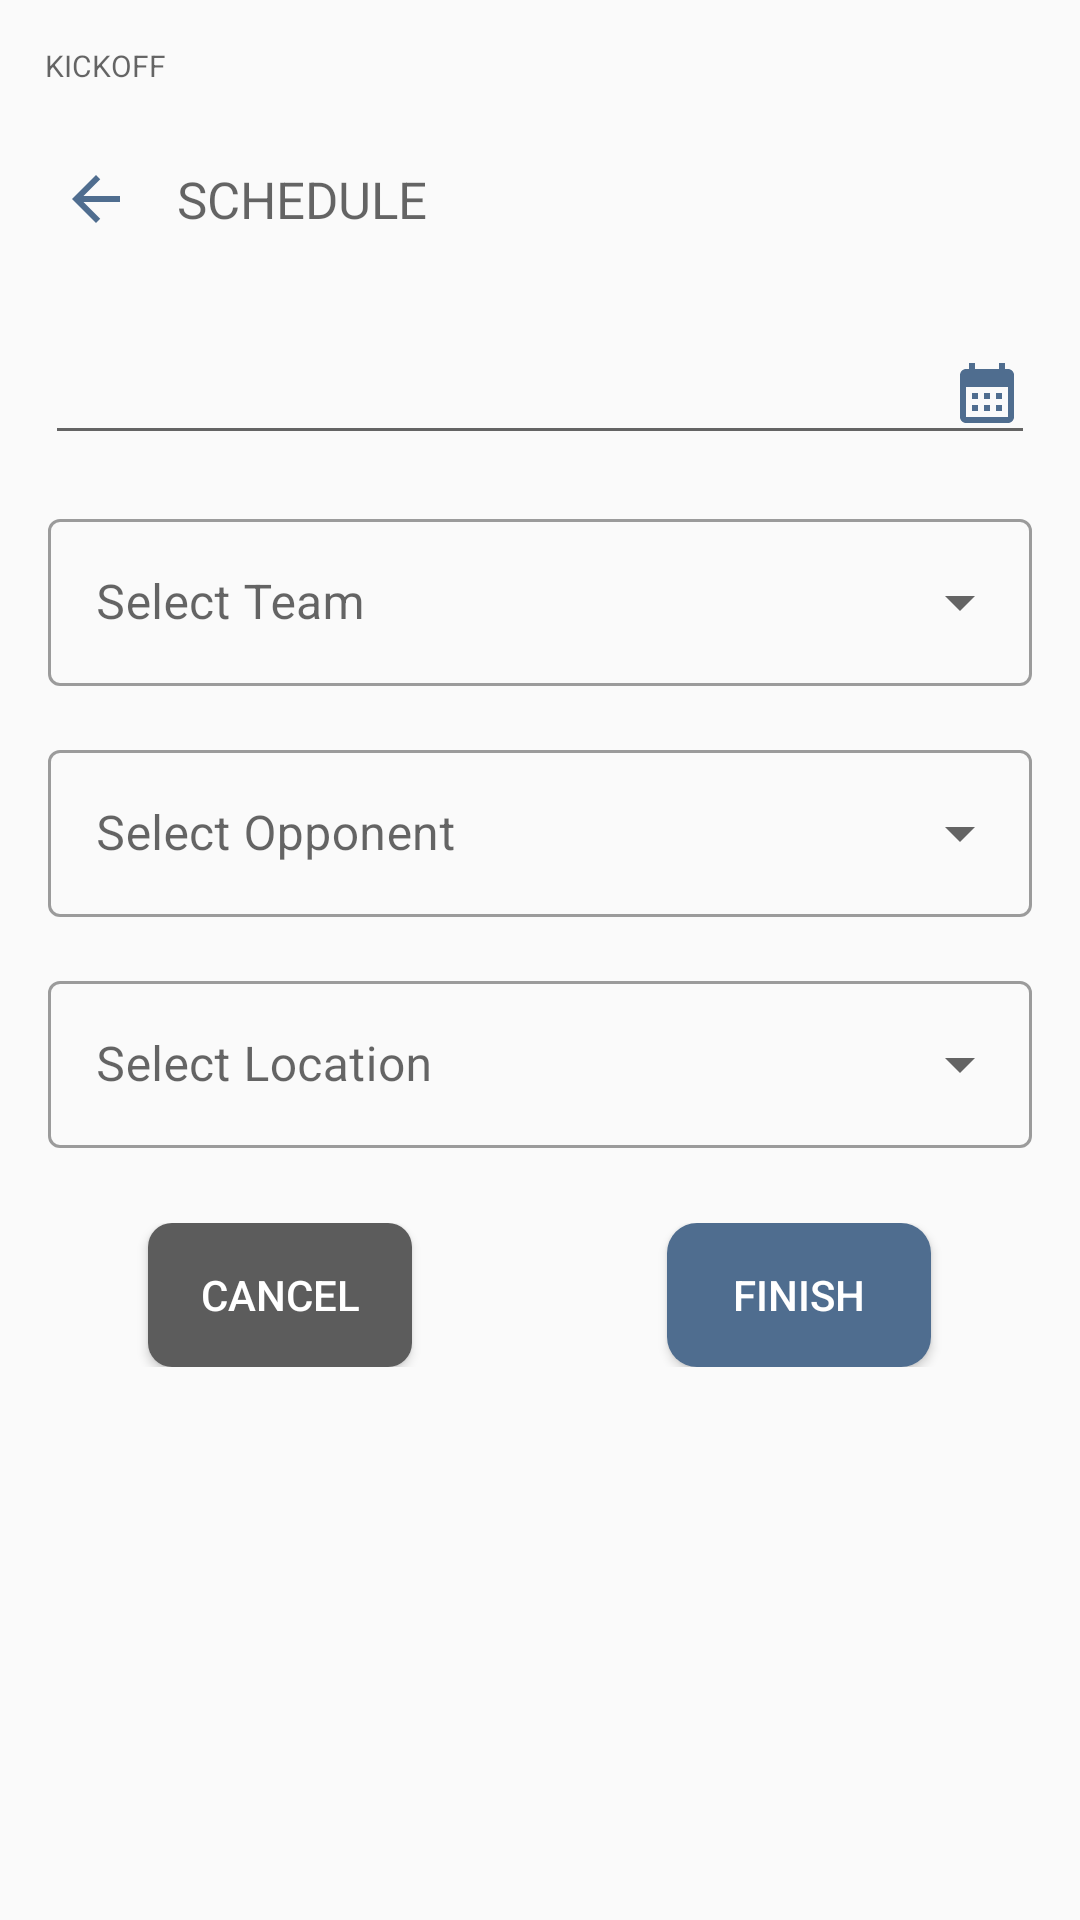

Icon bounding boxes for this 1080px x 1920px phone screenshot, format (x1, y1, x2, y2):
arrow back: (72, 175, 120, 223)
